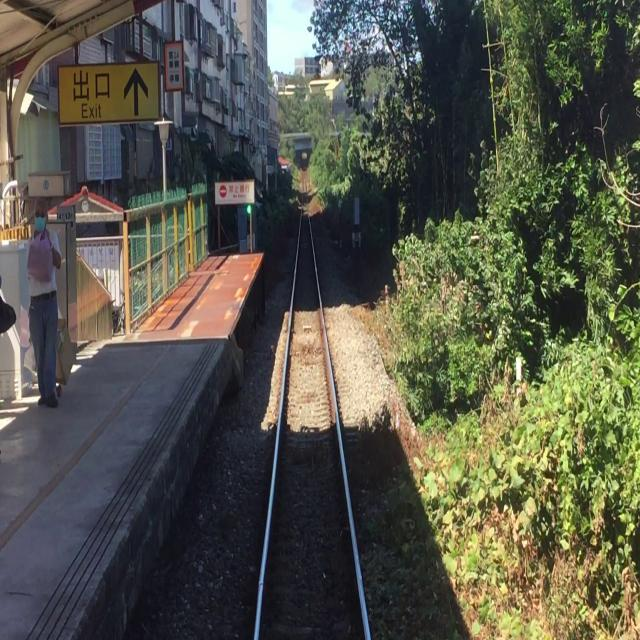track: (248, 176, 373, 640)
